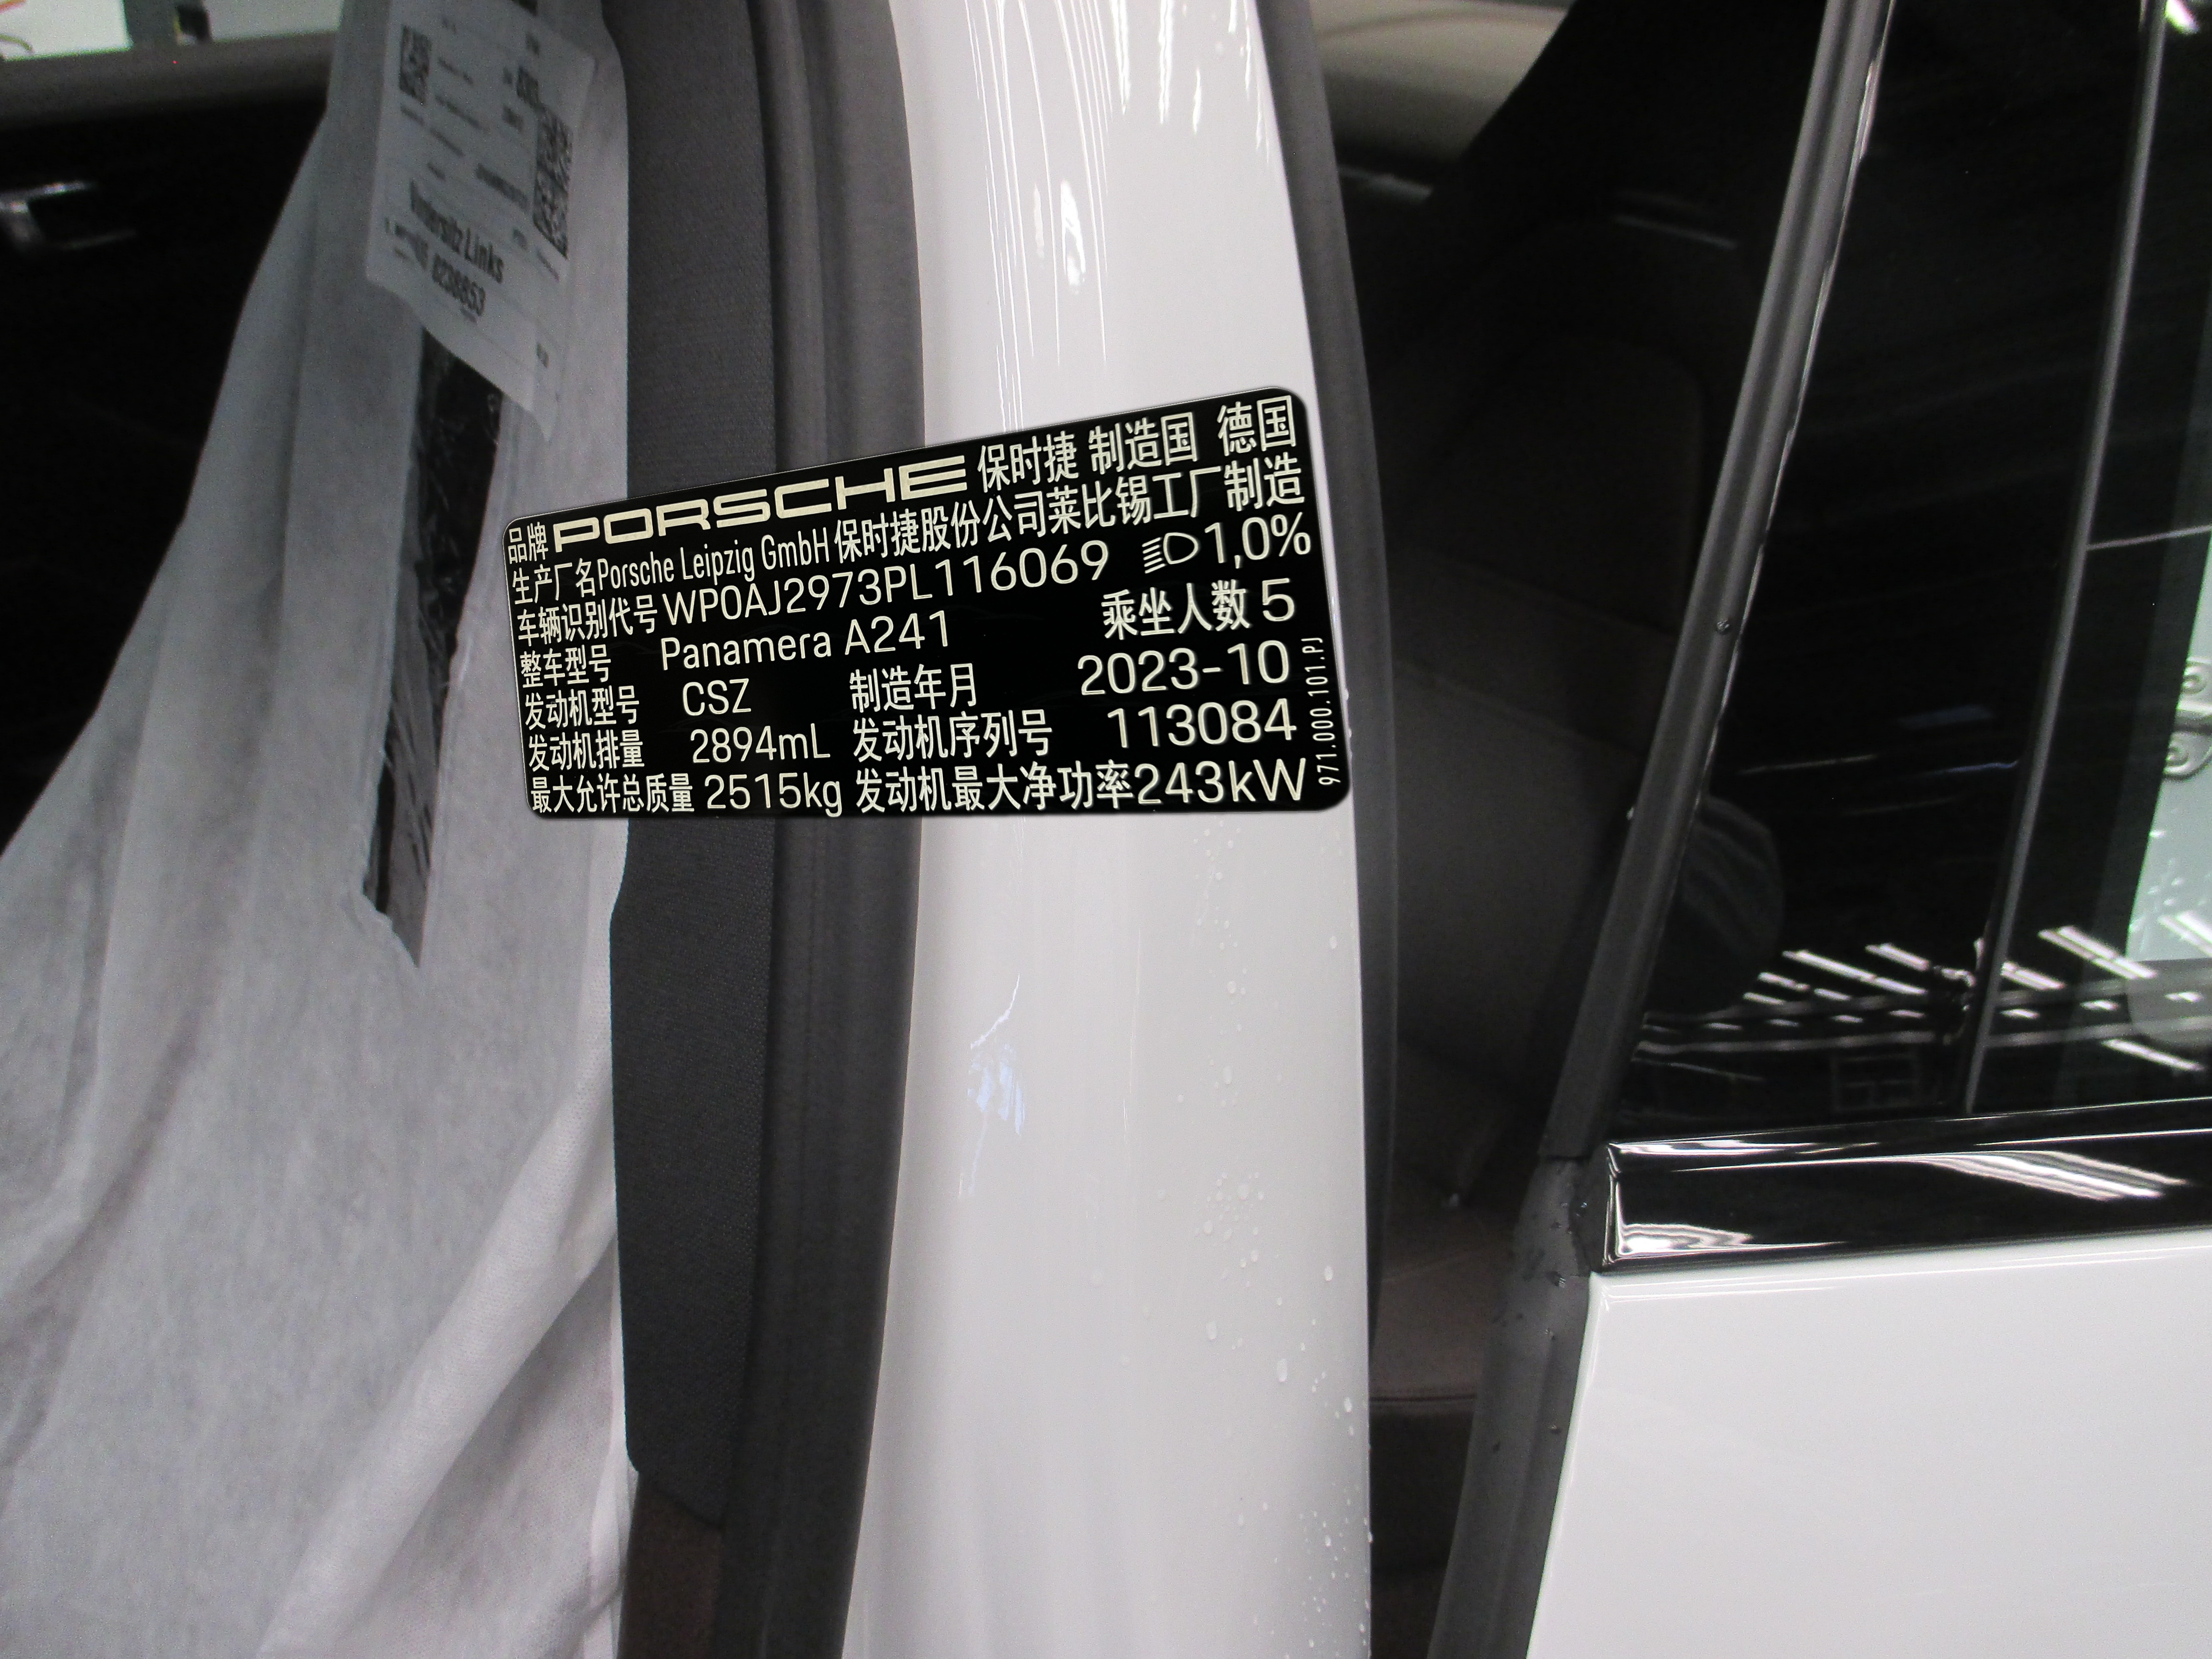Typlabel-China: (503, 387, 1350, 819)
